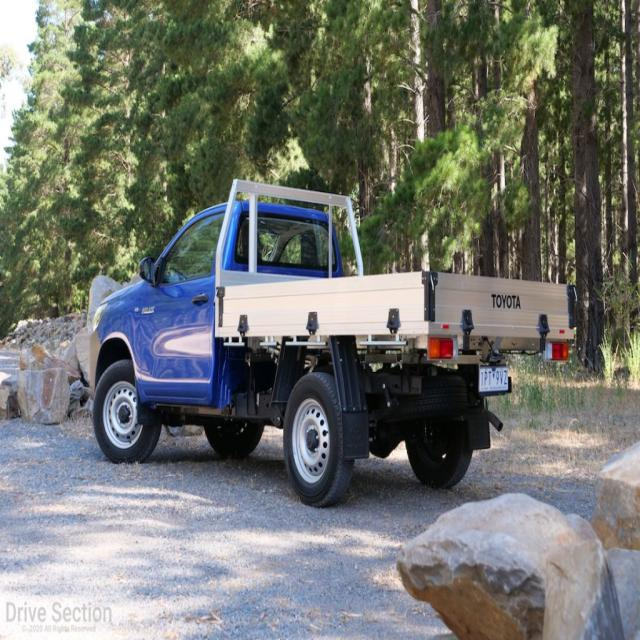light_vehicle: (80, 167, 582, 509)
